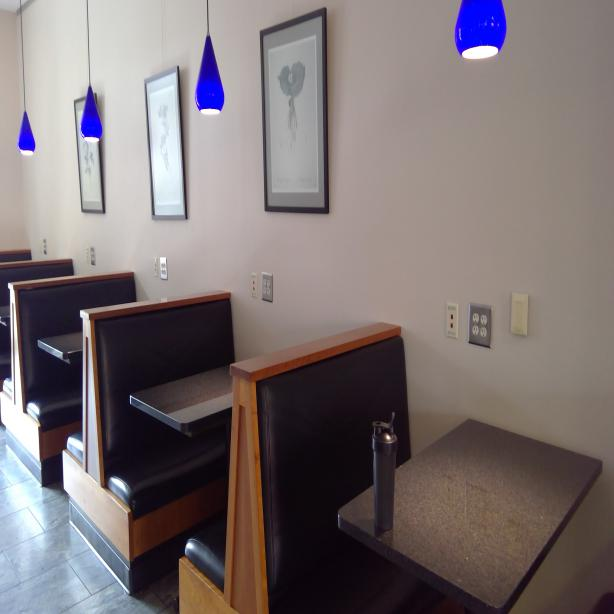typeb: (472, 311, 479, 325), (481, 315, 488, 327), (472, 324, 478, 336), (266, 285, 271, 297), (481, 328, 487, 338), (266, 280, 271, 289), (263, 279, 267, 287), (263, 287, 266, 294)
